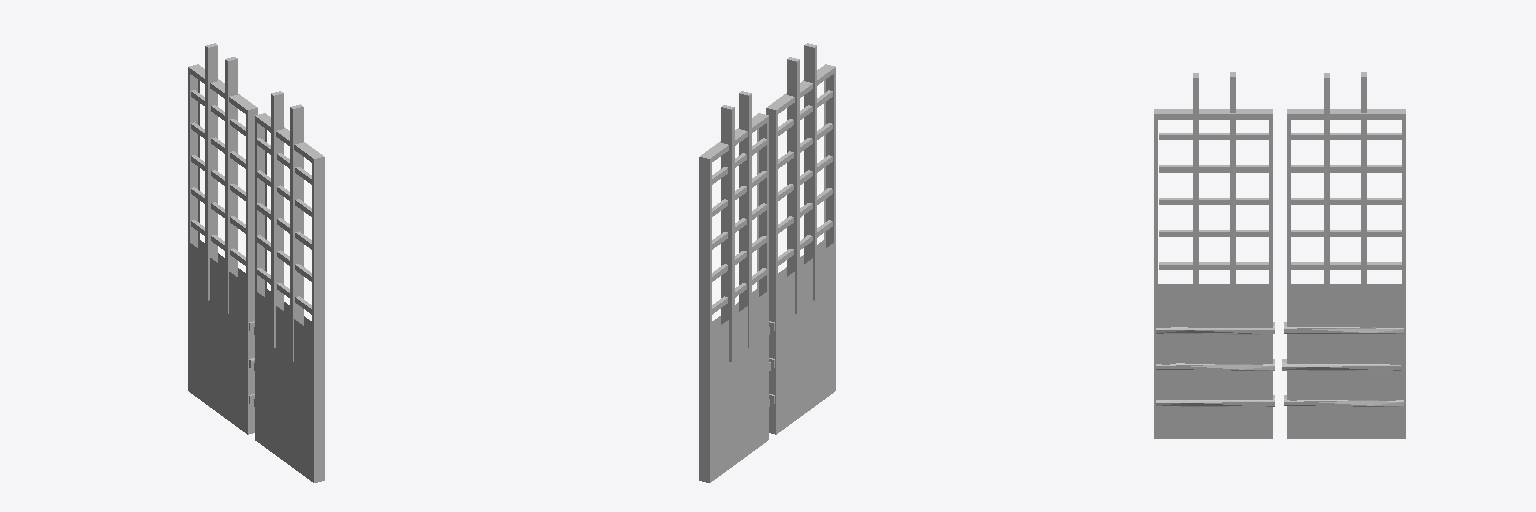
File: doors_uv.obj
The picture shows the model from 3 angles: view 1: azimuth 30°, elevation 25°; view 2: azimuth 150°, elevation 25°; view 3: azimuth 270°, elevation 25°; orthographic projection.
Parts seen in each view (by area): view 1: Door MainBuilding LeftDoor DoorLeft, DoorRight RightDoor Door MainBuilding, Door MainBuilding DoorWindowVerticalBar LeftDoorWindowVerticalBa, RightDoor Door MainBuilding RightDoorWindowVerticalBars DoorWind, Door MainBuilding LeftDoorWindowVerticalBars LeftDoor DoorWindow, RightDoor Door MainBuilding DoorWindowVerticalBar RightDoorWindo, Door MainBuilding LeftDoor LeftRightDoorWindowHorizontalBars Doo, RightDoor Door MainBuilding RightDoorWindowHorizontalBars DoorWi; view 2: DoorRight RightDoor Door MainBuilding, Door MainBuilding LeftDoor DoorLeft, RightDoor Door MainBuilding RightDoorWindowVerticalBars DoorWind, Door MainBuilding LeftDoorWindowVerticalBars LeftDoor DoorWindow, RightDoor Door MainBuilding DoorWindowVerticalBar RightDoorWindo, Door MainBuilding DoorWindowVerticalBar LeftDoorWindowVerticalBa, Door MainBuilding LeftDoor LeftRightDoorWindowHorizontalBars Doo, RightDoor Door MainBuilding RightDoorWindowHorizontalBars DoorWi; view 3: DoorRight RightDoor Door MainBuilding, Door MainBuilding LeftDoor DoorLeft, RightDoor Door MainBuilding RightDoorWindowHorizontalBars DoorWi, Door MainBuilding LeftDoor LeftRightDoorWindowHorizontalBars Doo, RightDoor Door MainBuilding DoorWindowVerticalBar RightDoorWindo, RightDoor Door MainBuilding RightDoorWindowVerticalBars DoorWind, Door MainBuilding DoorWindowVerticalBar LeftDoorWindowVerticalBa, Door MainBuilding LeftDoorWindowVerticalBars LeftDoor DoorWindow, RightDoor Door MainBuilding RightDoorDetail1, Door MainBuilding LeftDoor LeftDoorDetail2, RightDoor Door MainBuilding RightDoorDetail, Door MainBuilding LeftDoor LeftDoorDetail (+4 smaller).
Boxes of the visible parts, x1,y1,x2,y2 form: Door MainBuilding LeftDoor DoorLeft: [255, 113, 324, 482]; DoorRight RightDoor Door MainBuilding: [188, 64, 257, 434]; Door MainBuilding DoorWindowVerticalBar LeftDoorWindowVerticalBa: [290, 104, 303, 361]; RightDoor Door MainBuilding RightDoorWindowVerticalBars DoorWind: [205, 43, 217, 300]; Door MainBuilding LeftDoorWindowVerticalBars LeftDoor DoorWindow: [271, 91, 283, 348]; RightDoor Door MainBuilding DoorWindowVerticalBar RightDoorWindo: [225, 57, 237, 313]; Door MainBuilding LeftDoor LeftRightDoorWindowHorizontalBars Doo: [257, 170, 311, 314]; RightDoor Door MainBuilding RightDoorWindowHorizontalBars DoorWi: [191, 122, 245, 265]; DoorRight RightDoor Door MainBuilding: [699, 113, 768, 482]; Door MainBuilding LeftDoor DoorLeft: [766, 64, 835, 434]; RightDoor Door MainBuilding RightDoorWindowVerticalBars DoorWind: [721, 105, 734, 361]; Door MainBuilding LeftDoorWindowVerticalBars LeftDoor DoorWindow: [787, 57, 799, 313]; RightDoor Door MainBuilding DoorWindowVerticalBar RightDoorWindo: [739, 91, 751, 347]; Door MainBuilding DoorWindowVerticalBar LeftDoorWindowVerticalBa: [804, 43, 816, 300]; Door MainBuilding LeftDoor LeftRightDoorWindowHorizontalBars Doo: [778, 123, 832, 265]; RightDoor Door MainBuilding RightDoorWindowHorizontalBars DoorWi: [712, 171, 766, 314]; DoorRight RightDoor Door MainBuilding: [1287, 109, 1405, 438]; Door MainBuilding LeftDoor DoorLeft: [1154, 109, 1272, 438]; RightDoor Door MainBuilding RightDoorWindowHorizontalBars DoorWi: [1291, 165, 1401, 269]; Door MainBuilding LeftDoor LeftRightDoorWindowHorizontalBars Doo: [1159, 165, 1268, 269]; RightDoor Door MainBuilding DoorWindowVerticalBar RightDoorWindo: [1324, 73, 1329, 288]; RightDoor Door MainBuilding RightDoorWindowVerticalBars DoorWind: [1361, 72, 1366, 288]; Door MainBuilding DoorWindowVerticalBar LeftDoorWindowVerticalBa: [1193, 73, 1198, 288]; Door MainBuilding LeftDoorWindowVerticalBars LeftDoor DoorWindow: [1230, 72, 1235, 288]; RightDoor Door MainBuilding RightDoorDetail1: [1282, 359, 1400, 370]; Door MainBuilding LeftDoor LeftDoorDetail2: [1156, 395, 1274, 406]; RightDoor Door MainBuilding RightDoorDetail: [1284, 322, 1403, 333]; Door MainBuilding LeftDoor LeftDoorDetail: [1156, 322, 1274, 334].
Size of the model in its own units: 0.1392 by 3.33 by 2.12.